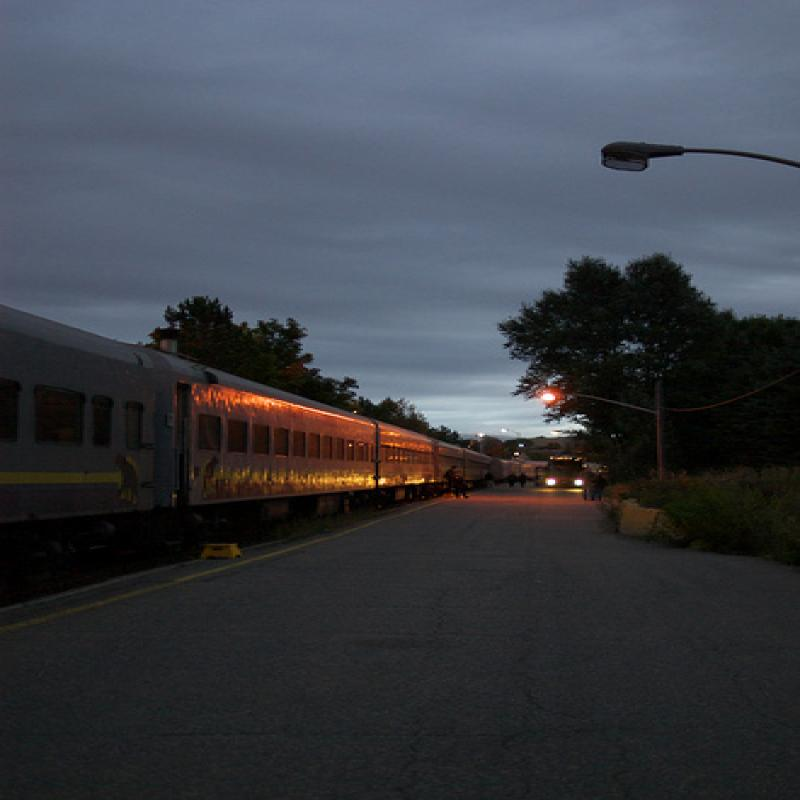train: (1, 309, 510, 600)
